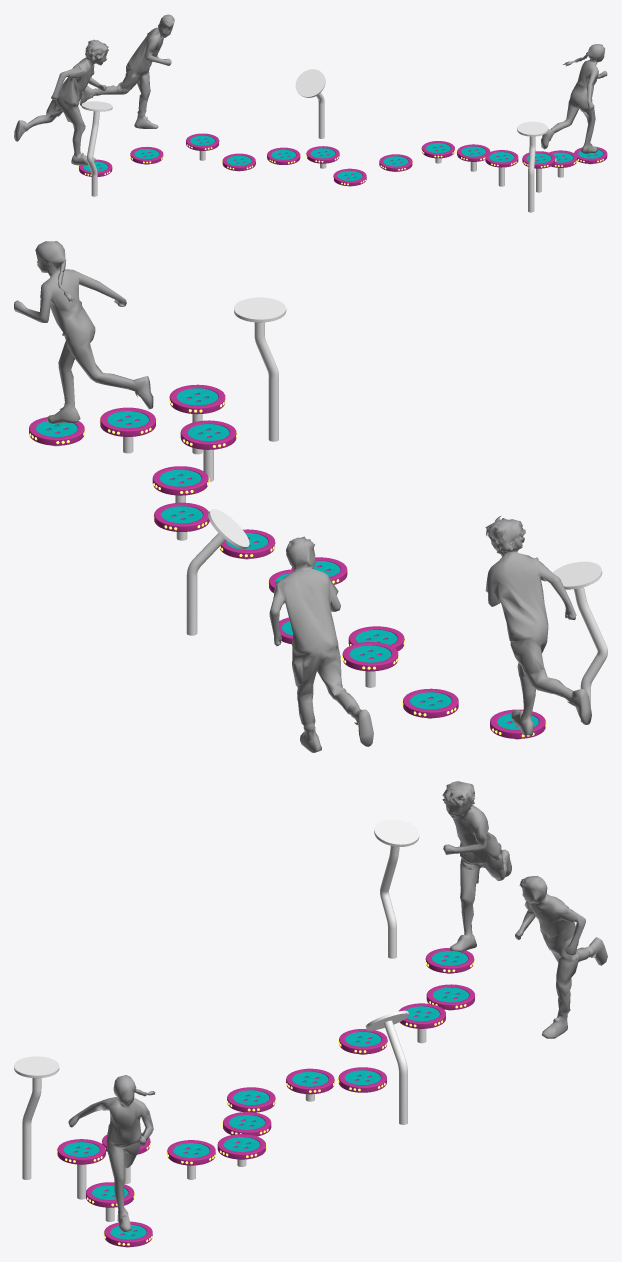
3 views of the same model, one above another, from view 1: azimuth 30°, elevation 25°; view 2: azimuth 150°, elevation 25°; view 3: azimuth 270°, elevation 25° (orthographic). The views are drawn at different scales.
Visible parts, largest first — view 1: boy02, boy01, girl, Circle029, Line020, Line022, step_B010, step_B011, step_B002, Circle030, step_B009, step_B005 (+9 smaller); view 2: boy01, boy02, girl, Line022, Line020, Line021, step_B010, Circle030, step_B012, step_B002, step_B011, Circle028 (+7 smaller); view 3: boy01, boy02, girl, Line020, Line022, Circle028, step_B011, Line021, Circle030, step_B009, step_B005, step_B008 (+8 smaller).
Boxes of the visible parts, <box> form: boy02: <box>14,39,108,165</box>; boy01: <box>80,14,174,128</box>; girl: <box>541,44,607,153</box>; Circle029: <box>295,69,325,97</box>; Line020: <box>87,111,99,196</box>; Line022: <box>528,136,535,212</box>; step_B010: <box>485,150,518,186</box>; step_B011: <box>522,151,555,192</box>; step_B002: <box>186,133,219,160</box>; Circle030: <box>517,121,548,136</box>; step_B009: <box>457,144,490,171</box>; step_B005: <box>306,146,339,168</box>; boy01: <box>269,536,373,752</box>; boy02: <box>485,515,591,735</box>; girl: <box>14,241,153,423</box>; Line022: <box>254,322,278,441</box>; Line020: <box>574,587,607,722</box>; Line021: <box>186,533,225,635</box>; step_B010: <box>180,420,236,481</box>; Circle030: <box>234,297,286,322</box>; step_B012: <box>100,407,155,453</box>; step_B002: <box>342,642,398,687</box>; step_B011: <box>169,384,225,454</box>; Circle028: <box>553,561,602,589</box>; boy01: <box>515,876,607,1038</box>; boy02: <box>442,781,511,951</box>; girl: <box>68,1075,155,1231</box>; Line020: <box>380,846,399,958</box>; Line022: <box>22,1078,41,1179</box>; Circle028: <box>374,819,419,846</box>; step_B011: <box>57,1139,105,1199</box>; Line021: <box>383,1020,407,1124</box>; Circle030: <box>14,1056,59,1078</box>; step_B009: <box>167,1140,215,1179</box>; step_B005: <box>286,1068,334,1101</box>; step_B008: <box>217,1134,265,1166</box>.
Bounding box in the file's own units: 5.19 × 1.4 × 3.92.
